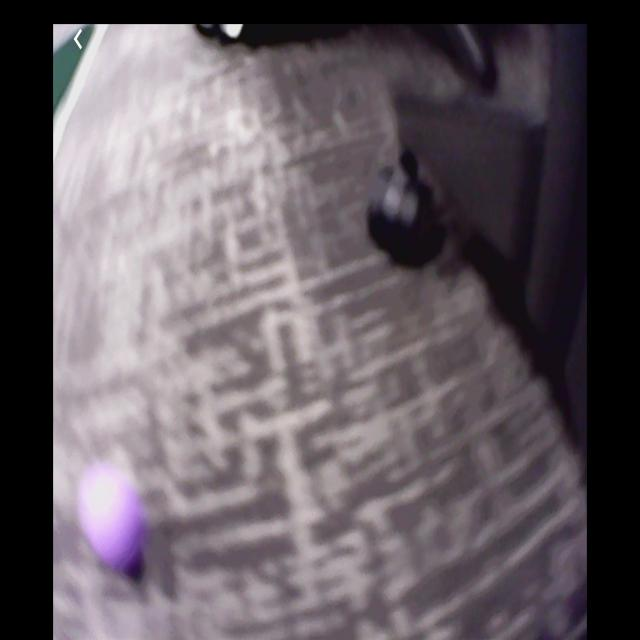ball: (82, 466, 145, 568)
